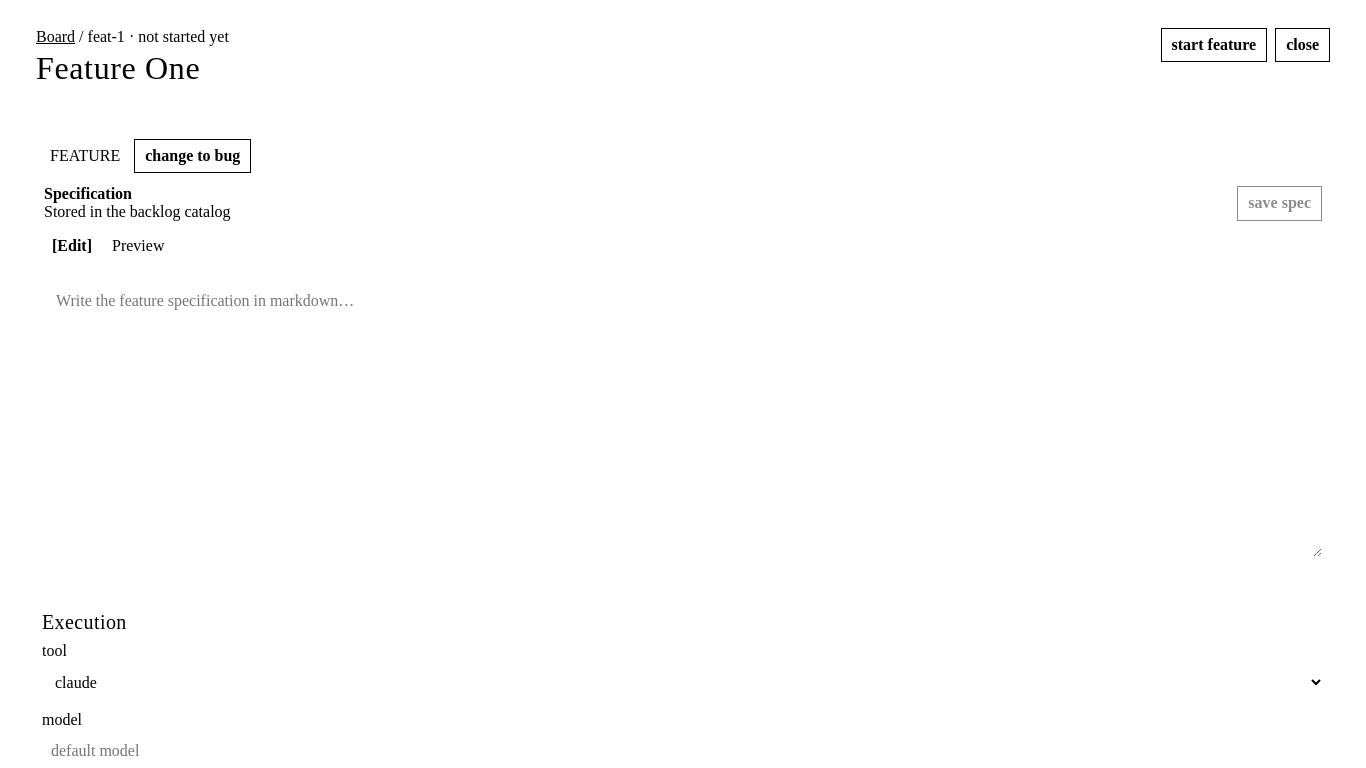
Test case: BacklogItemDetail spec markdown editor › shows an empty-state message when there is no spec
Click the button "Preview": point(138, 246) 104,231 -> 172,261
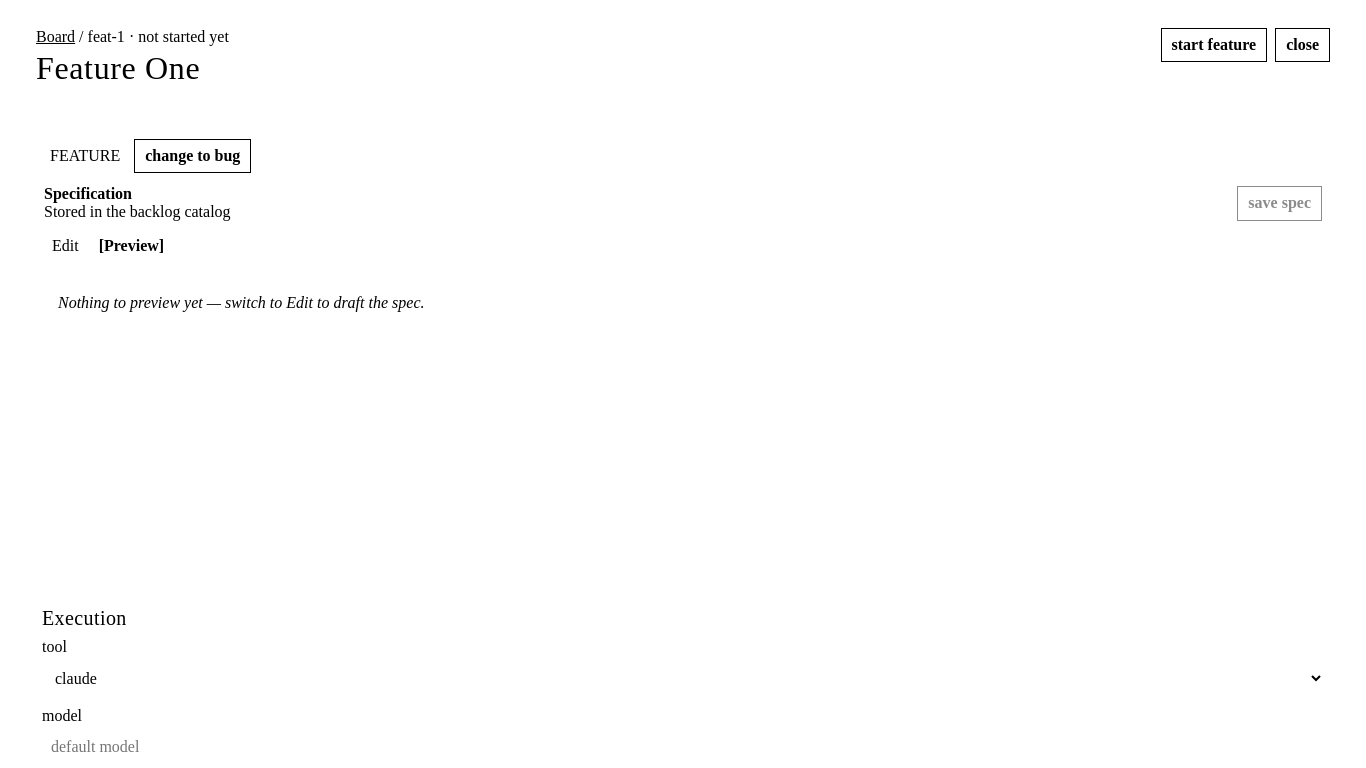
Expected: the element with test id "spec-preview" shows "Nothing to preview yet", 58,294 -> 424,311
